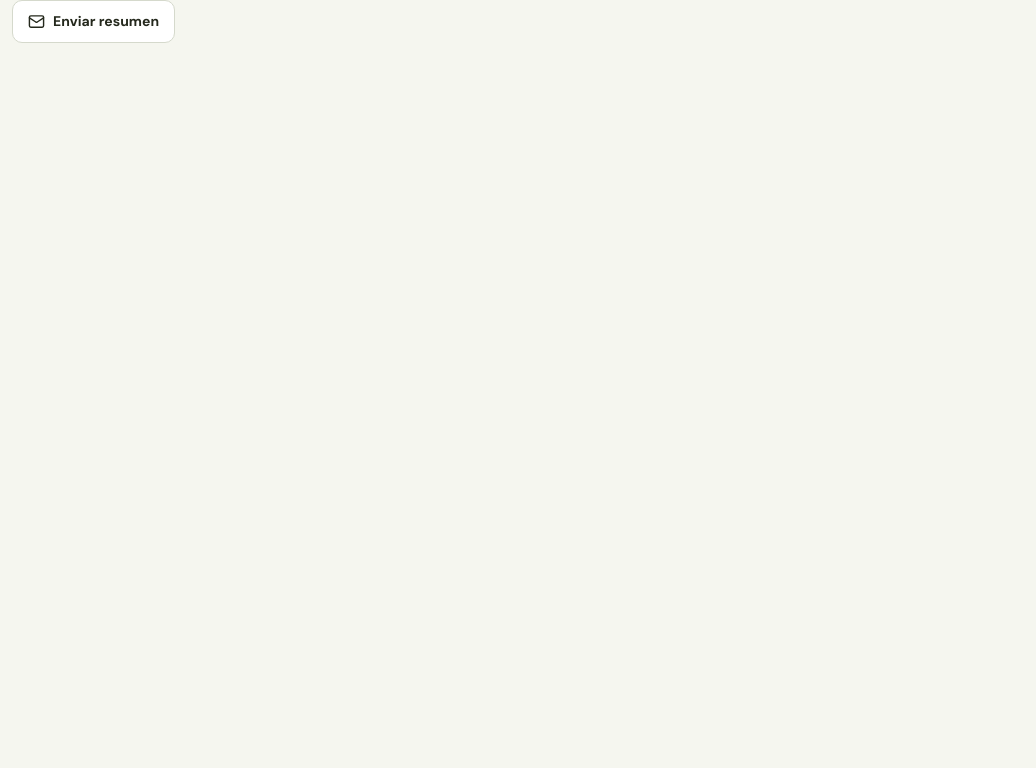
Test case: permite solicitar el enlace de verificación cuando el correo está pendiente
The width and height of the screenshot is (1036, 768).
Click the button "Enviar resumen" at {"x": 94, "y": 22}, box [12,0,175,43]
(page scrolled)
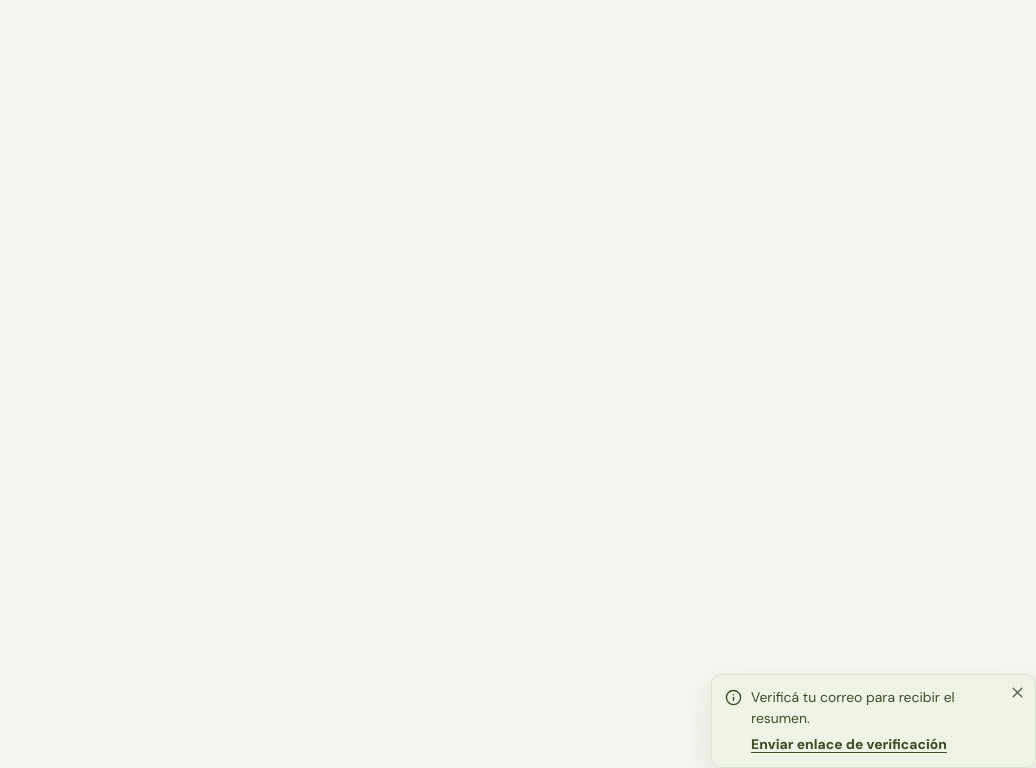
Click the button "Enviar enlace de verificación" at {"x": 849, "y": 742}, box [751,729,947,755]
(page scrolled)
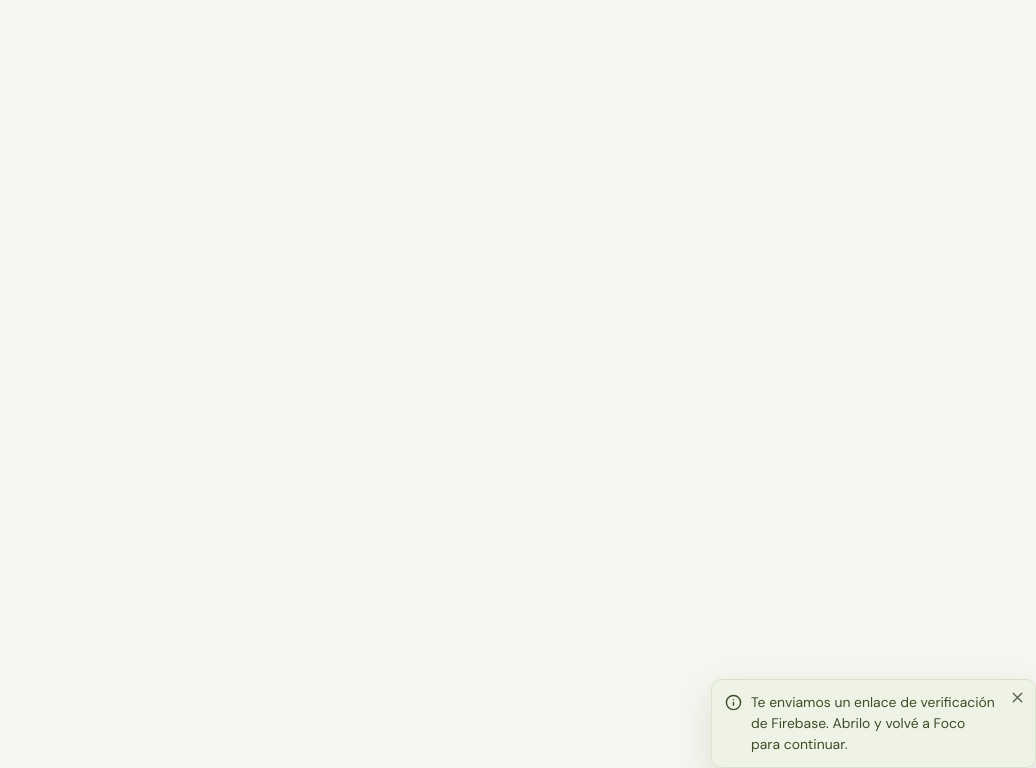
Expected: the text "Te enviamos un enlace de verificación" is shown, [751,693,995,753]
